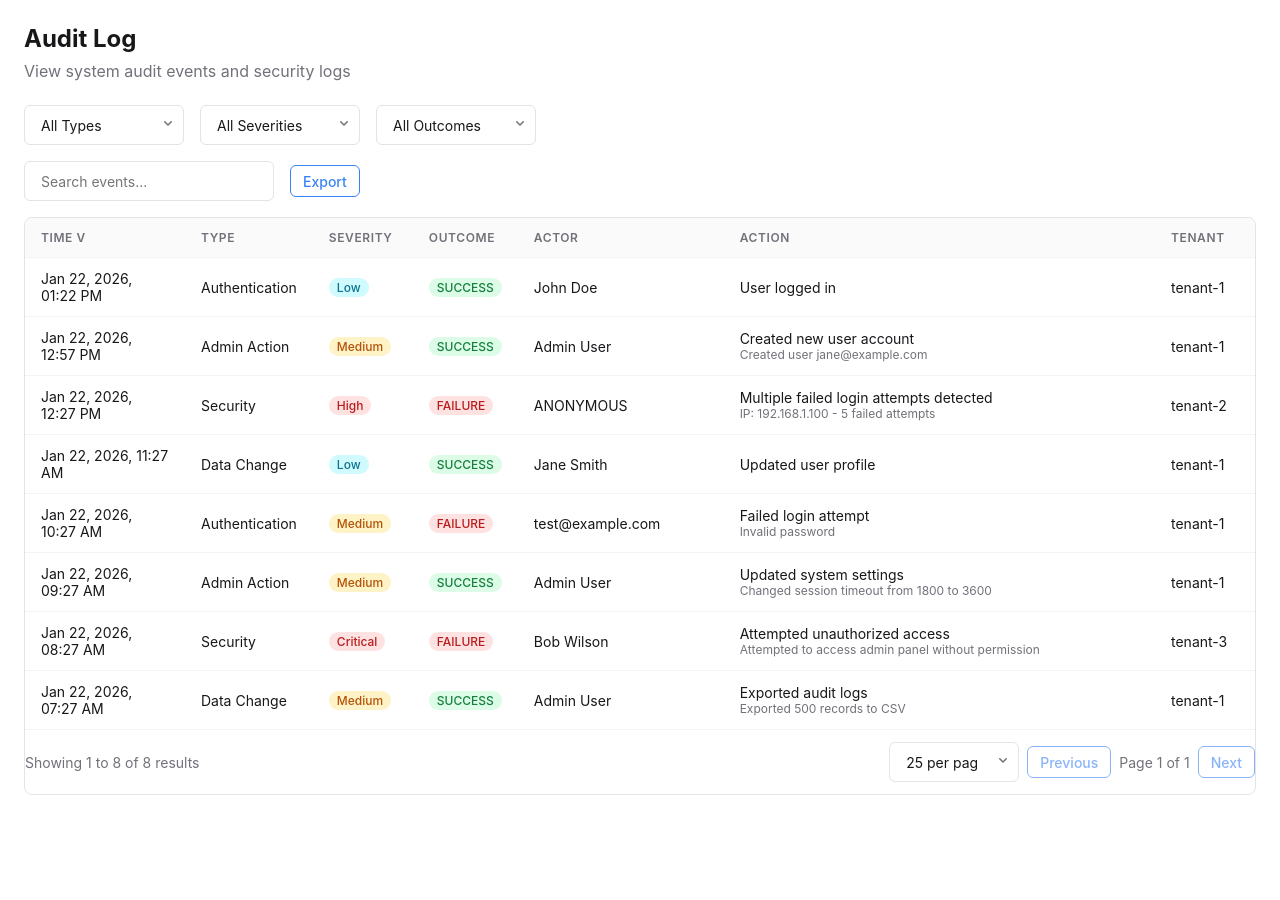
Test case: AuditLog › should filter by type
The width and height of the screenshot is (1280, 900).
Select "Authentication" in the dropdown with test id "type-filter" at {"x": 104, "y": 125}, box [24,105,184,145]
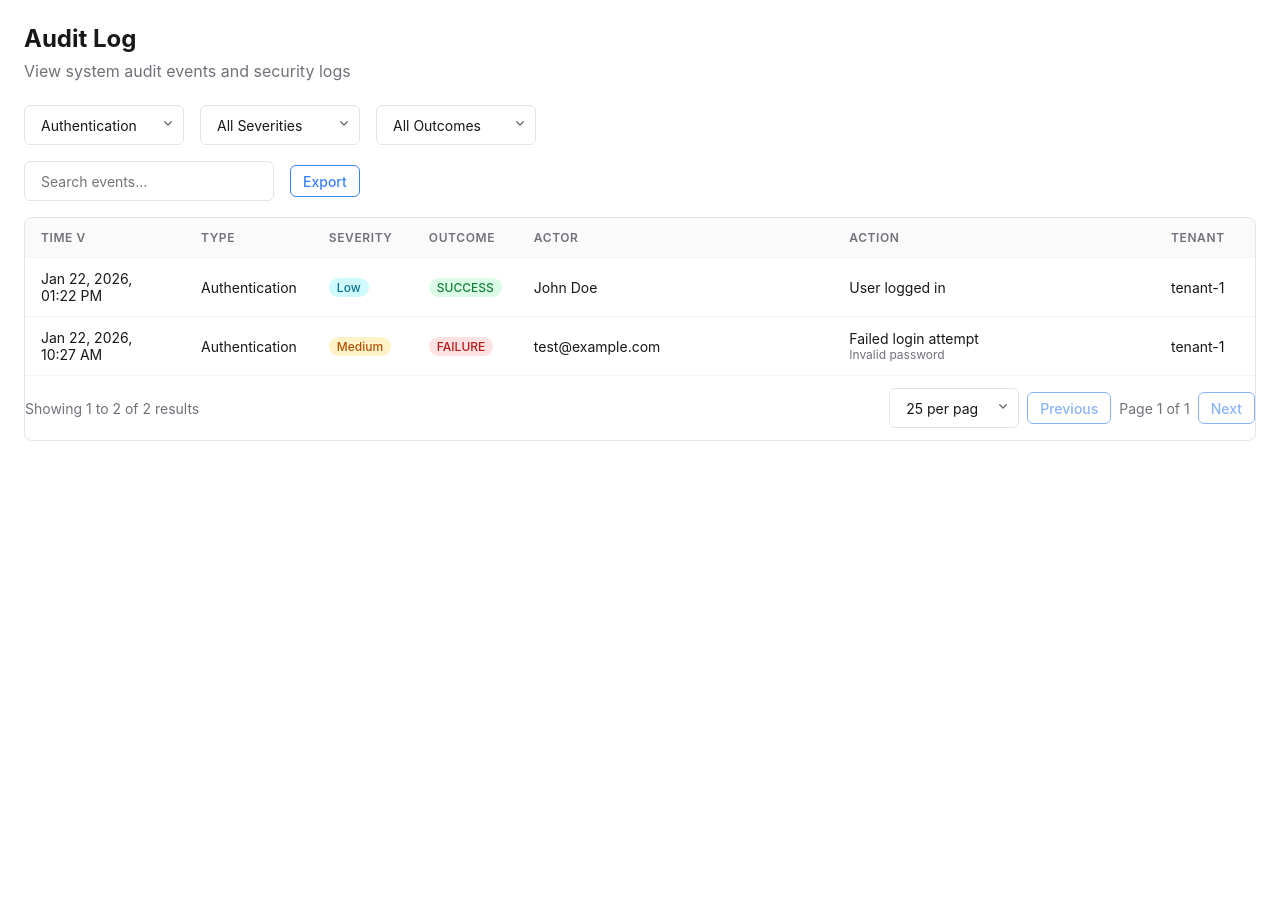
Expected: the text "User logged in" is shown, [849,278,946,296]
Expected: the text "Updated system settings" is gone
